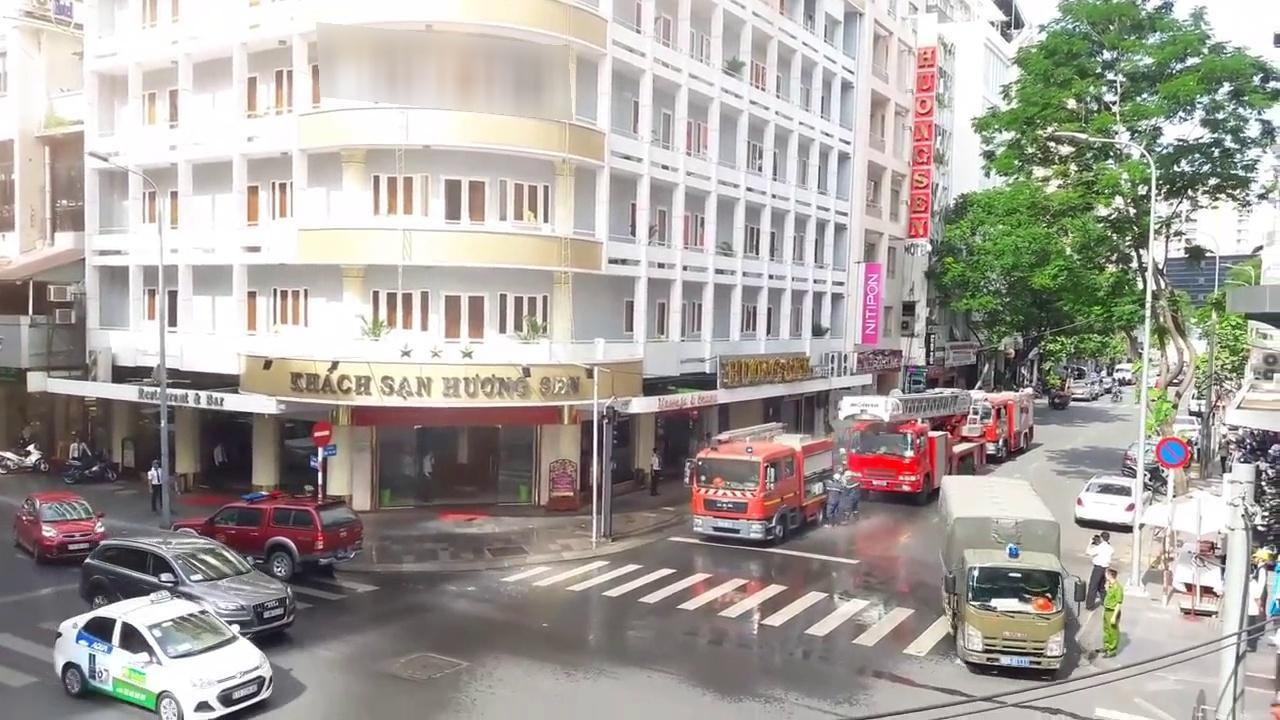xe cuu hoa: (682, 421, 834, 541), (838, 386, 976, 503)
xe hoi: (50, 590, 273, 717), (78, 535, 296, 631), (169, 491, 361, 579), (12, 492, 101, 559), (1074, 473, 1133, 521)
xe tai: (939, 472, 1064, 669)
